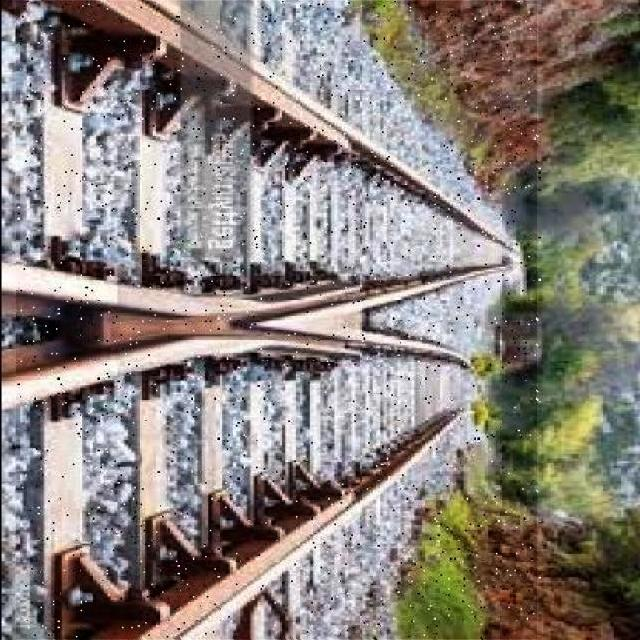rail: (18, 2, 538, 640)
